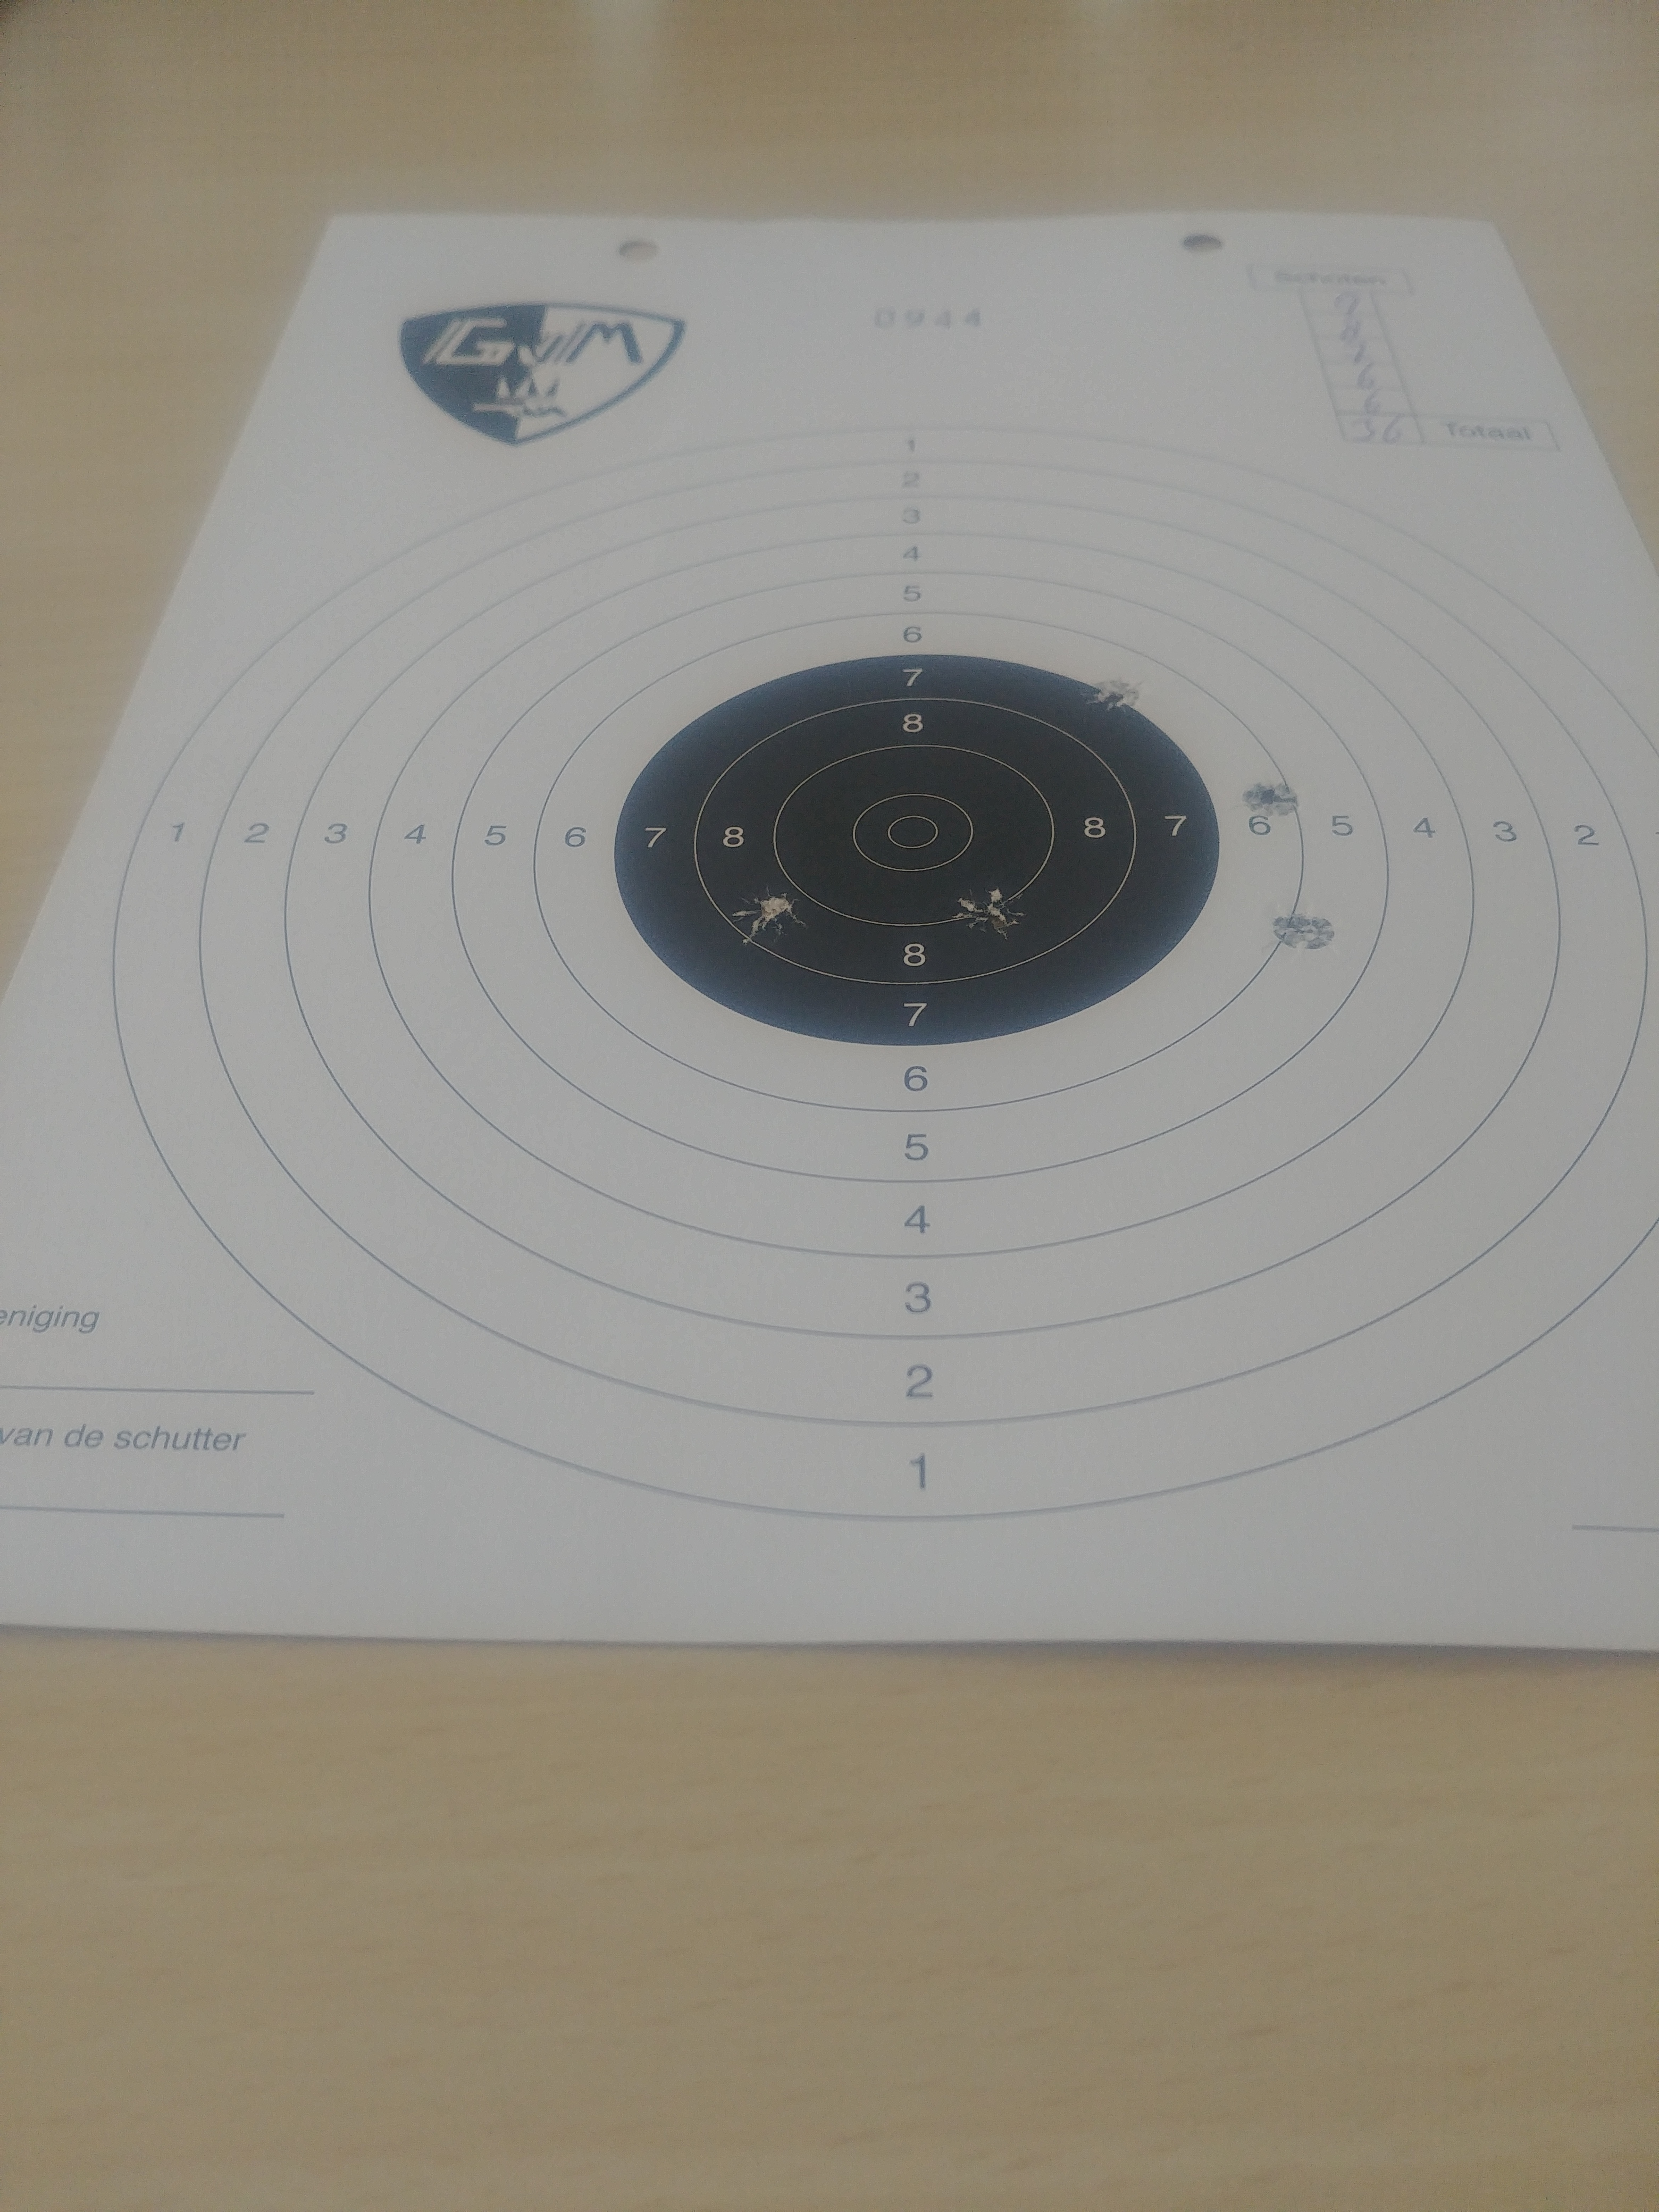center: (613, 653, 1220, 1047)
out: (112, 425, 1659, 1517)
shot: (730, 883, 810, 946), (951, 885, 1028, 942), (1077, 678, 1148, 714), (1241, 782, 1302, 819), (1272, 914, 1335, 949)
target: (852, 792, 974, 871)
